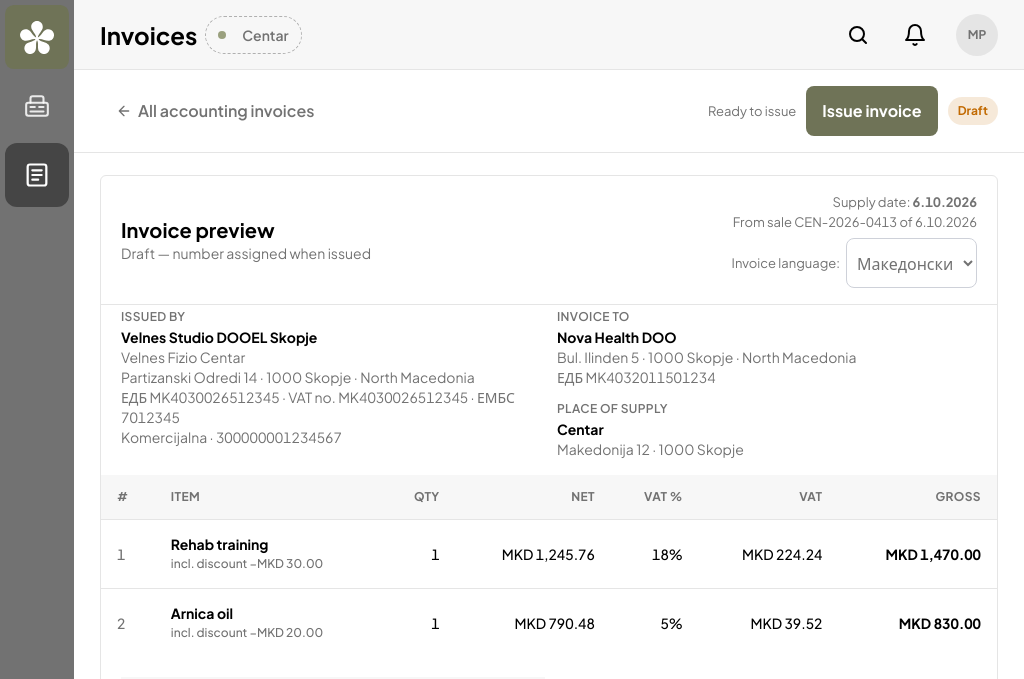
Test case: accounting invoices › payments (phase 5) › an issued document shows the server's summary and ledger: total, paid, outstanding, state, the POS sale row
Click the button with test id "issue-btn": point(872, 111) [806,86,938,136]
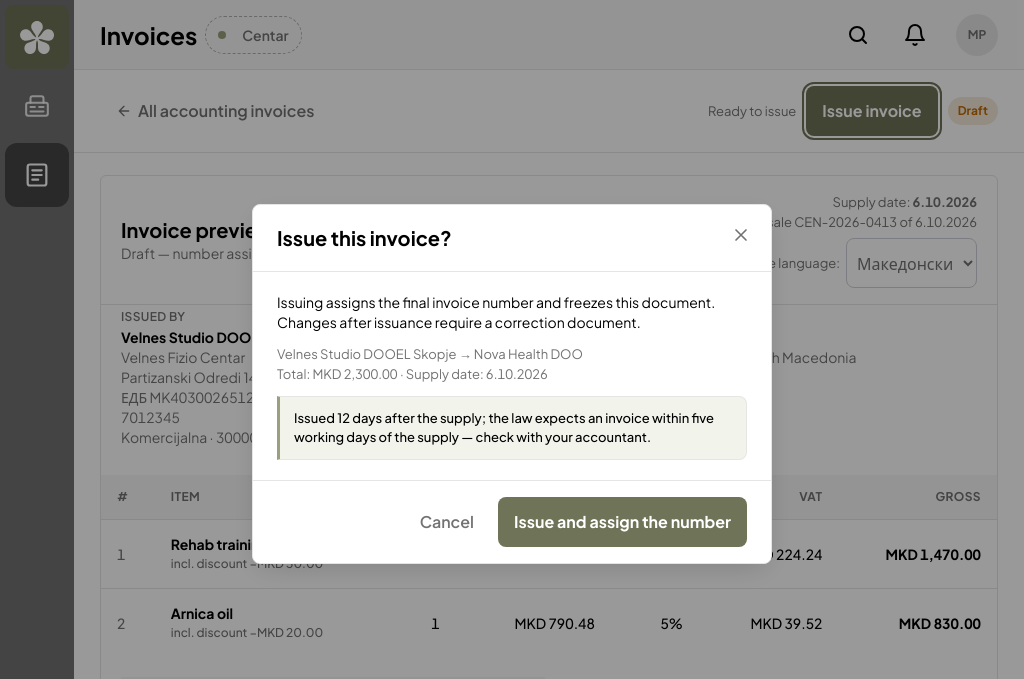
Click the button with test id "issue-confirm": point(622, 522) [498,497,747,547]
(page scrolled)
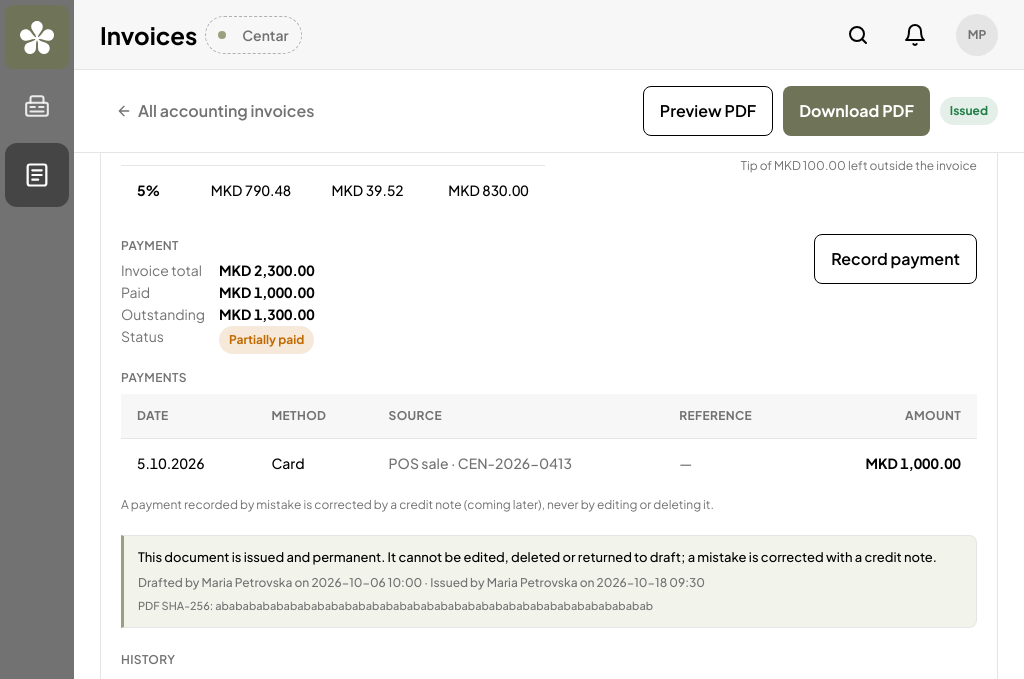
Result: the text with test id "doc-status" reads "Issued" at [950,103,988,118]
Result: the text with test id "payment-state" reads "Partially paid" at [229,332,304,347]
Result: the row "5.10.2026 Card POS sale · CEN-2026-0413 — MKD 1,000.00" is shown at [121,438,977,487]
